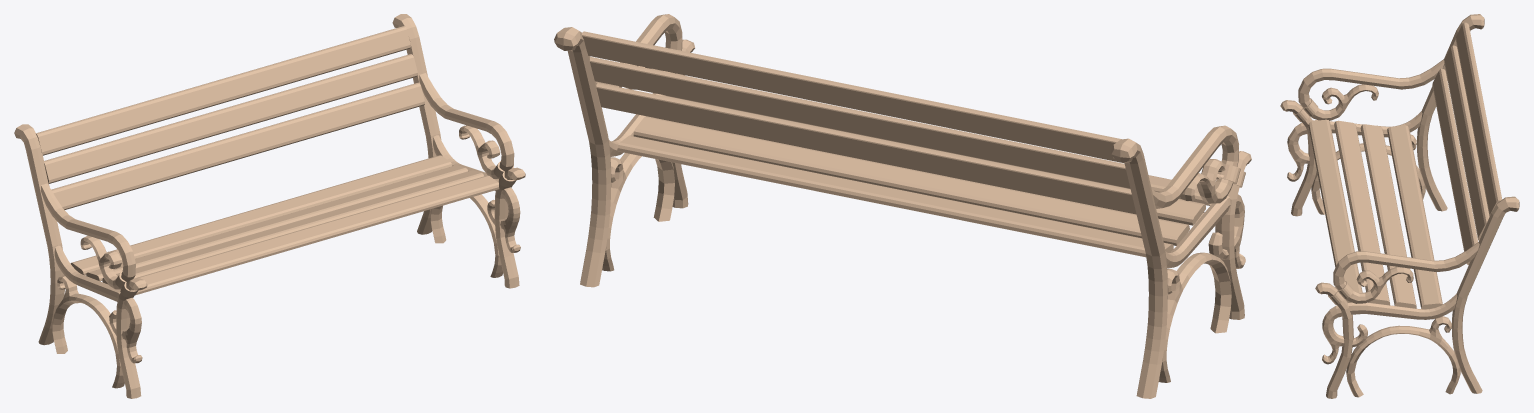
The model's file is bench.fbx.
The picture shows the model from 3 angles, left to right: view 1: azimuth 30°, elevation 25°; view 2: azimuth 150°, elevation 25°; view 3: azimuth 270°, elevation 25°; orthographic projection. The views are drawn at different scales.
Visible parts, largest first — view 1: bench; view 2: bench; view 3: bench.
Part boxes in pixels (<box>): bench: <box>14,14,525,398</box>; bench: <box>554,14,1251,398</box>; bench: <box>1280,14,1519,398</box>.
Size of the model in its own units: 276 by 126 by 142.
